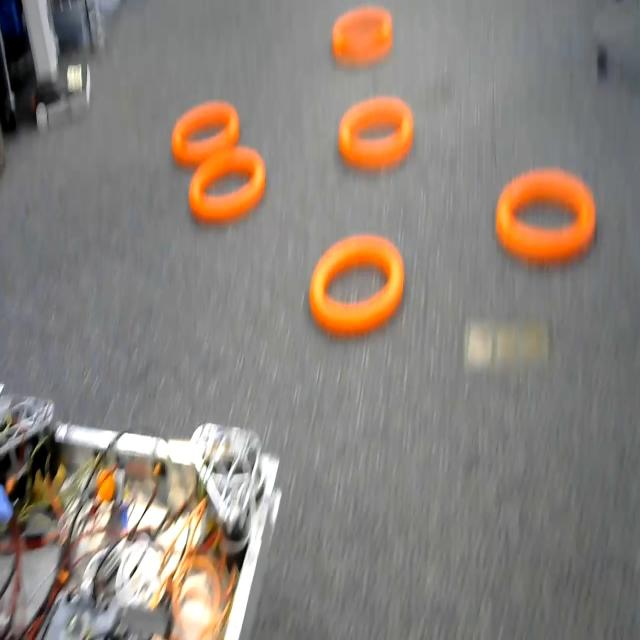note: (490, 162, 609, 267), (306, 230, 410, 341), (336, 92, 414, 167), (188, 158, 270, 221), (166, 98, 246, 154), (332, 4, 396, 59)
